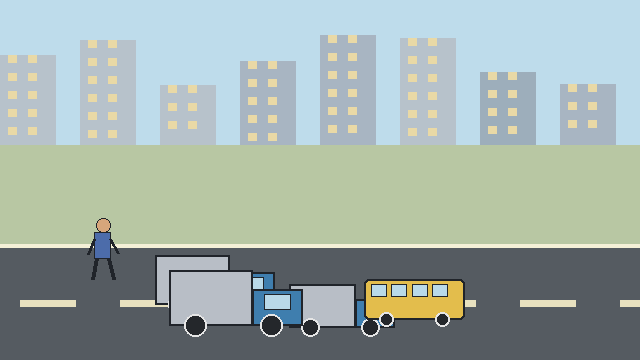bus: (364, 279, 464, 326)
person: (88, 218, 120, 280)
truck: (169, 270, 302, 336), (155, 255, 274, 314), (289, 284, 394, 336)
